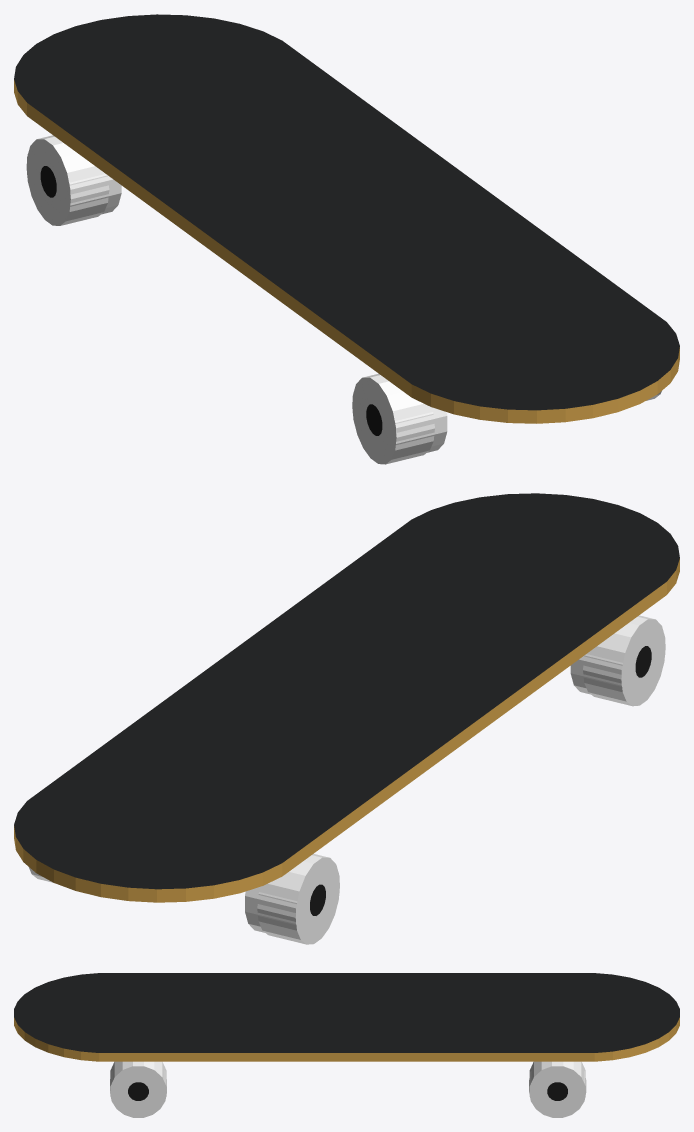
File: board.fbx
The picture shows the model from 3 angles, top to bottom: view 1: azimuth 30°, elevation 25°; view 2: azimuth 150°, elevation 25°; view 3: azimuth 270°, elevation 25°; orthographic projection. The views are drawn at different scales.
Parts seen in each view (by area): view 1: Board, Wheels 2, Wheels; view 2: Board, Wheels 2, Wheels; view 3: Board, Wheels 2, Wheels.
Part boxes in pixels (box(x1,y1,x2,y2)): Board: box(14, 14, 679, 423); Wheels 2: box(27, 135, 447, 461); Wheels: box(26, 140, 661, 464); Board: box(14, 493, 679, 902); Wheels 2: box(245, 615, 665, 939); Wheels: box(29, 620, 665, 944); Board: box(14, 973, 679, 1061); Wheels 2: box(110, 1061, 585, 1116); Wheels: box(110, 1067, 586, 1117).
Bounding box in the file's own units: 21 × 7.25 × 69.9.
